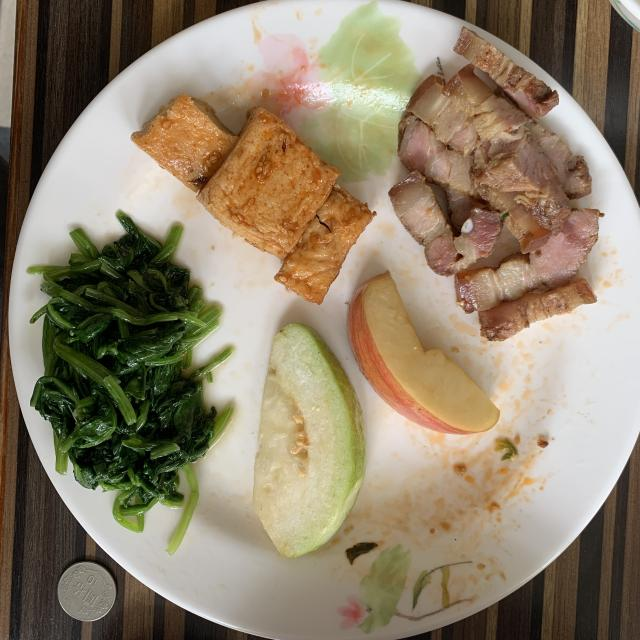apple -sliced-: (348, 271, 499, 434)
coin: (58, 561, 116, 621)
creamy tofu: (131, 94, 372, 304)
grilled pork: (389, 29, 601, 340)
guava -sliced-: (252, 324, 366, 558)
mustard greens: (28, 211, 232, 552)
